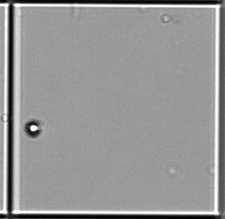Living Cell: (24, 119, 42, 138)
